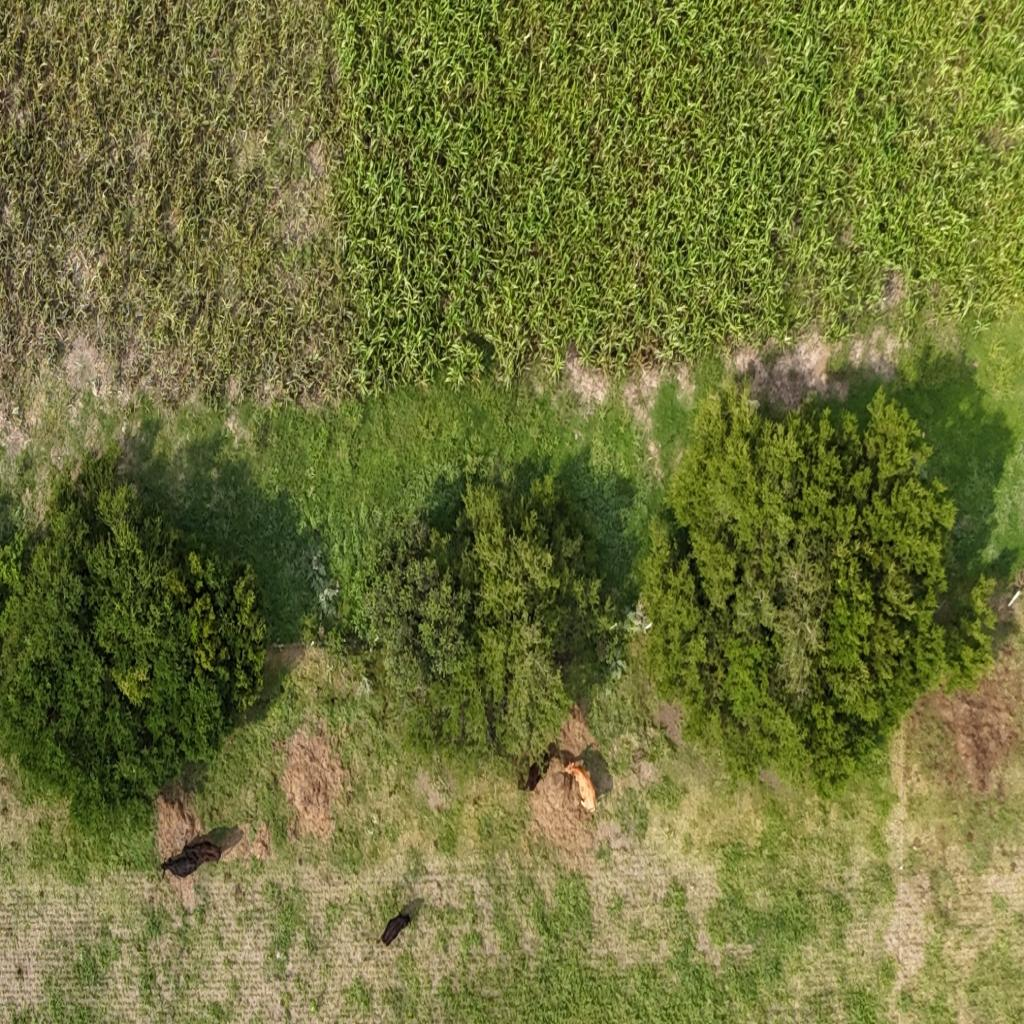cow: (377, 894, 427, 948), (560, 754, 597, 814), (517, 755, 552, 793), (160, 851, 201, 879), (183, 835, 226, 859)
